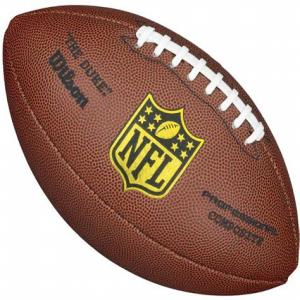Rugby: (3, 4, 300, 296)
